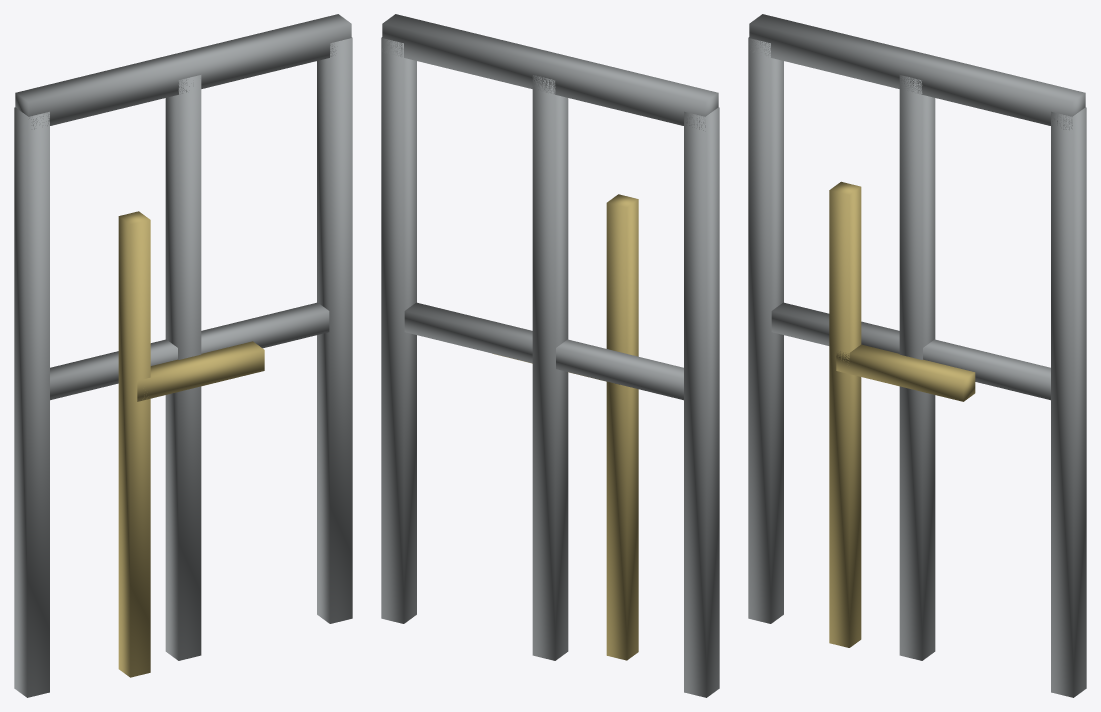
Rendered from residential_gate_l60_h110.glb.
The picture shows the model from 3 angles, left to right: view 1: azimuth 30°, elevation 25°; view 2: azimuth 150°, elevation 25°; view 3: azimuth 330°, elevation 25°; orthographic projection.
Visible parts, largest first — view 1: world; view 2: world; view 3: world.
Part boxes in pixels (x1,y1,x2,y2): world: (14,14,352,697); world: (381,14,719,697); world: (748,14,1086,697).
Bounding box in the file's own units: 0.645 × 1.13 × 0.0825.
